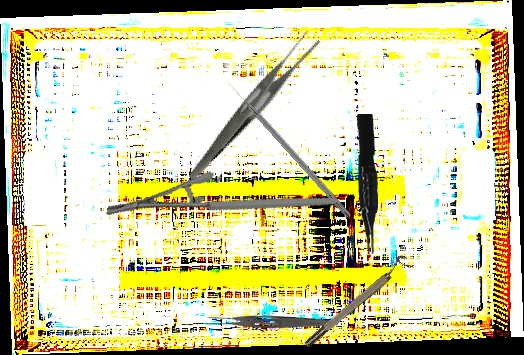Dressing Forceps: (156, 28, 347, 180), (207, 314, 338, 328)
Fixation Ring: (299, 252, 414, 350)
Hook Surgical: (226, 79, 354, 219)
Needle Holder: (105, 135, 338, 278)
Tissue Forceps: (354, 113, 380, 255)
